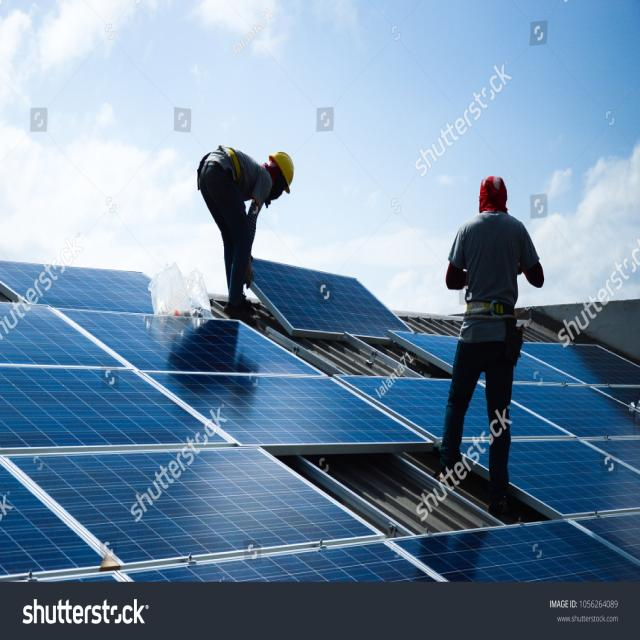Clean: (0, 258, 640, 582), (251, 259, 408, 331), (332, 376, 455, 437), (394, 330, 461, 368)
